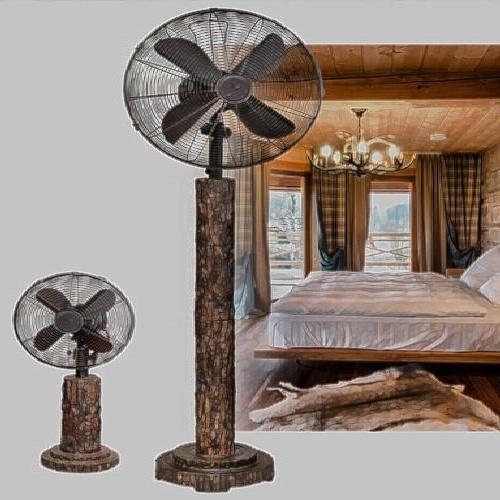fan: (130, 6, 318, 489), (22, 262, 139, 478)
